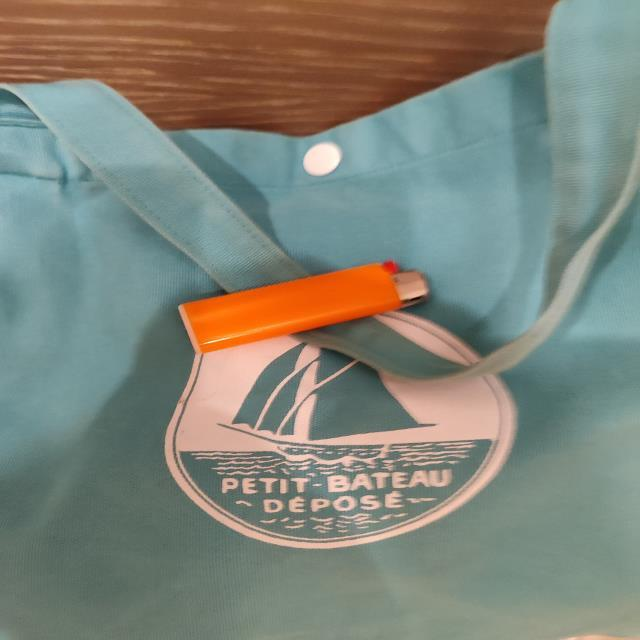lighter: (180, 261, 406, 352)
